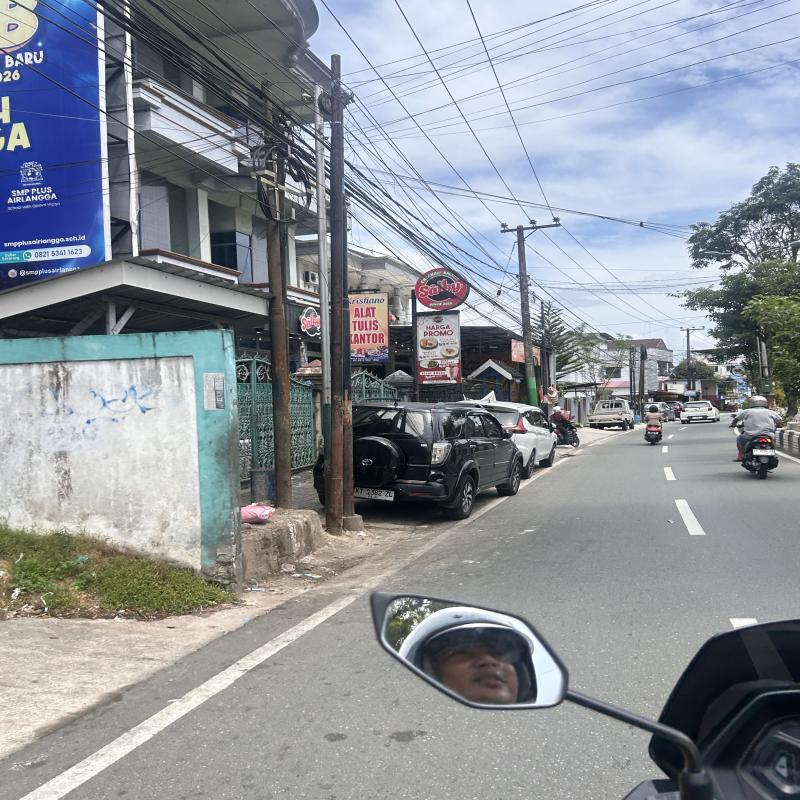license plate on a car: (353, 488, 395, 501)
